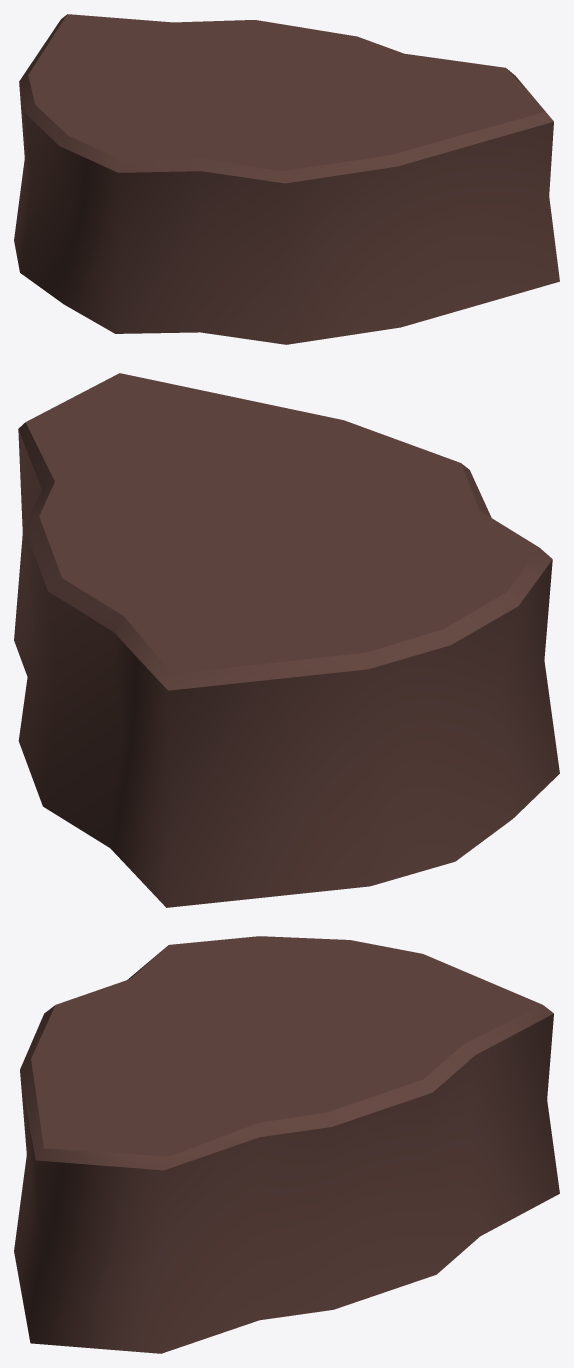
Rendered from rock1_02.fbx.
3 views of the same model, one above another, from view 1: azimuth 30°, elevation 25°; view 2: azimuth 150°, elevation 25°; view 3: azimuth 270°, elevation 25° (orthographic). The views are drawn at different scales.
Parts seen in each view (by area): view 1: rock1_02; view 2: rock1_02; view 3: rock1_02.
Part boxes in pixels (x1,y1,x2,y2): rock1_02: (14, 14, 559, 344); rock1_02: (14, 373, 559, 907); rock1_02: (14, 936, 559, 1353).
Size of the model in its own units: 4.13 by 1.58 by 4.11.
